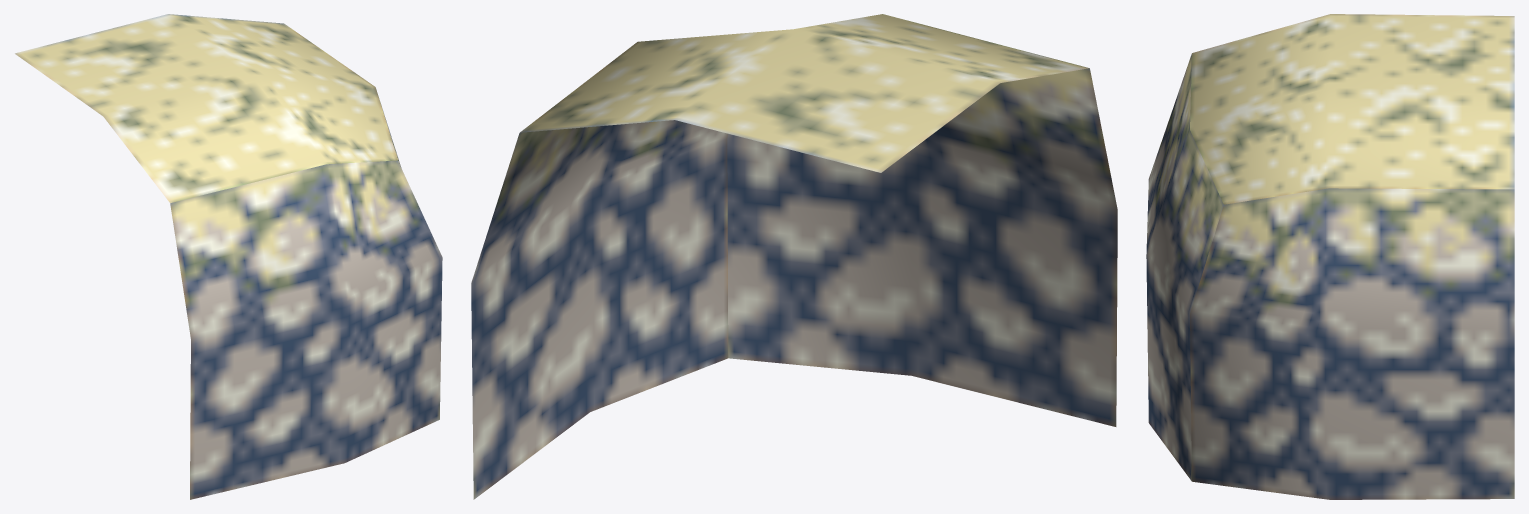
File: sandCTile_groundCorner_lowerRight.fbx
The picture shows the model from 3 angles, left to right: view 1: azimuth 30°, elevation 25°; view 2: azimuth 150°, elevation 25°; view 3: azimuth 270°, elevation 25°; orthographic projection. The views are drawn at different scales.
Visible parts, largest first — view 1: sandCTile_groundCorner_lowerRight; view 2: sandCTile_groundCorner_lowerRight; view 3: sandCTile_groundCorner_lowerRight.
Boxes of the visible parts, x1=… form: sandCTile_groundCorner_lowerRight: x1=15, y1=14, x2=442, y2=499; sandCTile_groundCorner_lowerRight: x1=471, y1=14, x2=1117, y2=499; sandCTile_groundCorner_lowerRight: x1=1146, y1=14, x2=1514, y2=499.
Bounding box in the file's own units: 1.01 × 1.01 × 1.01.
